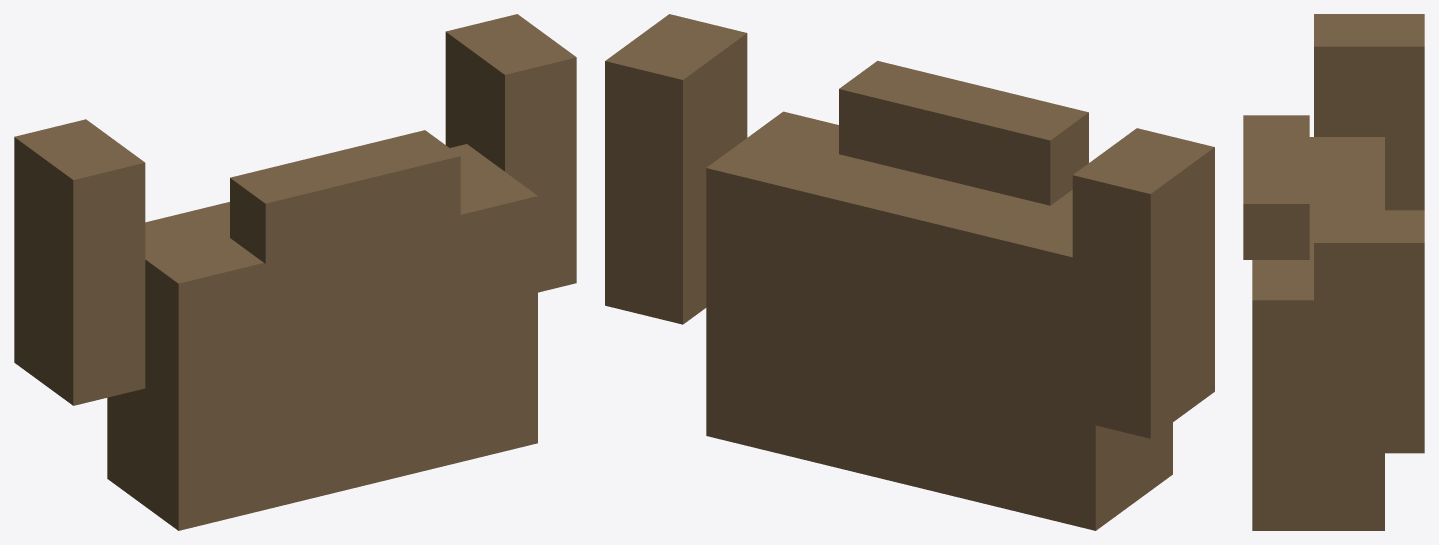
File: face-beard-brown.glb
3 views of the same model, side by side, from view 1: azimuth 30°, elevation 25°; view 2: azimuth 150°, elevation 25°; view 3: azimuth 270°, elevation 25° (orthographic). The views are drawn at different scales.
Visible parts, largest first — view 1: beard_chin, beard_cheek_-1, beard_cheek_1, beard_stache; view 2: beard_chin, beard_cheek_-1, beard_cheek_1, beard_stache; view 3: beard_chin, beard_cheek_1, beard_cheek_-1, beard_stache.
Part boxes in pixels (x1=…): beard_chin: x1=107, y1=144, x2=537, y2=530; beard_cheek_-1: x1=14, y1=119, x2=145, y2=405; beard_cheek_1: x1=445, y1=14, x2=576, y2=292; beard_stache: x1=230, y1=130, x2=460, y2=263; beard_chin: x1=706, y1=111, x2=1172, y2=530; beard_cheek_-1: x1=1072, y1=128, x2=1214, y2=438; beard_cheek_1: x1=605, y1=14, x2=747, y2=324; beard_stache: x1=839, y1=60, x2=1088, y2=205; beard_chin: x1=1252, y1=137, x2=1384, y2=530; beard_cheek_1: x1=1314, y1=210, x2=1424, y2=453; beard_cheek_-1: x1=1314, y1=14, x2=1424, y2=210; beard_stache: x1=1243, y1=115, x2=1309, y2=259.
Bounding box in the file's own units: 0.245 × 0.16 × 0.082.
